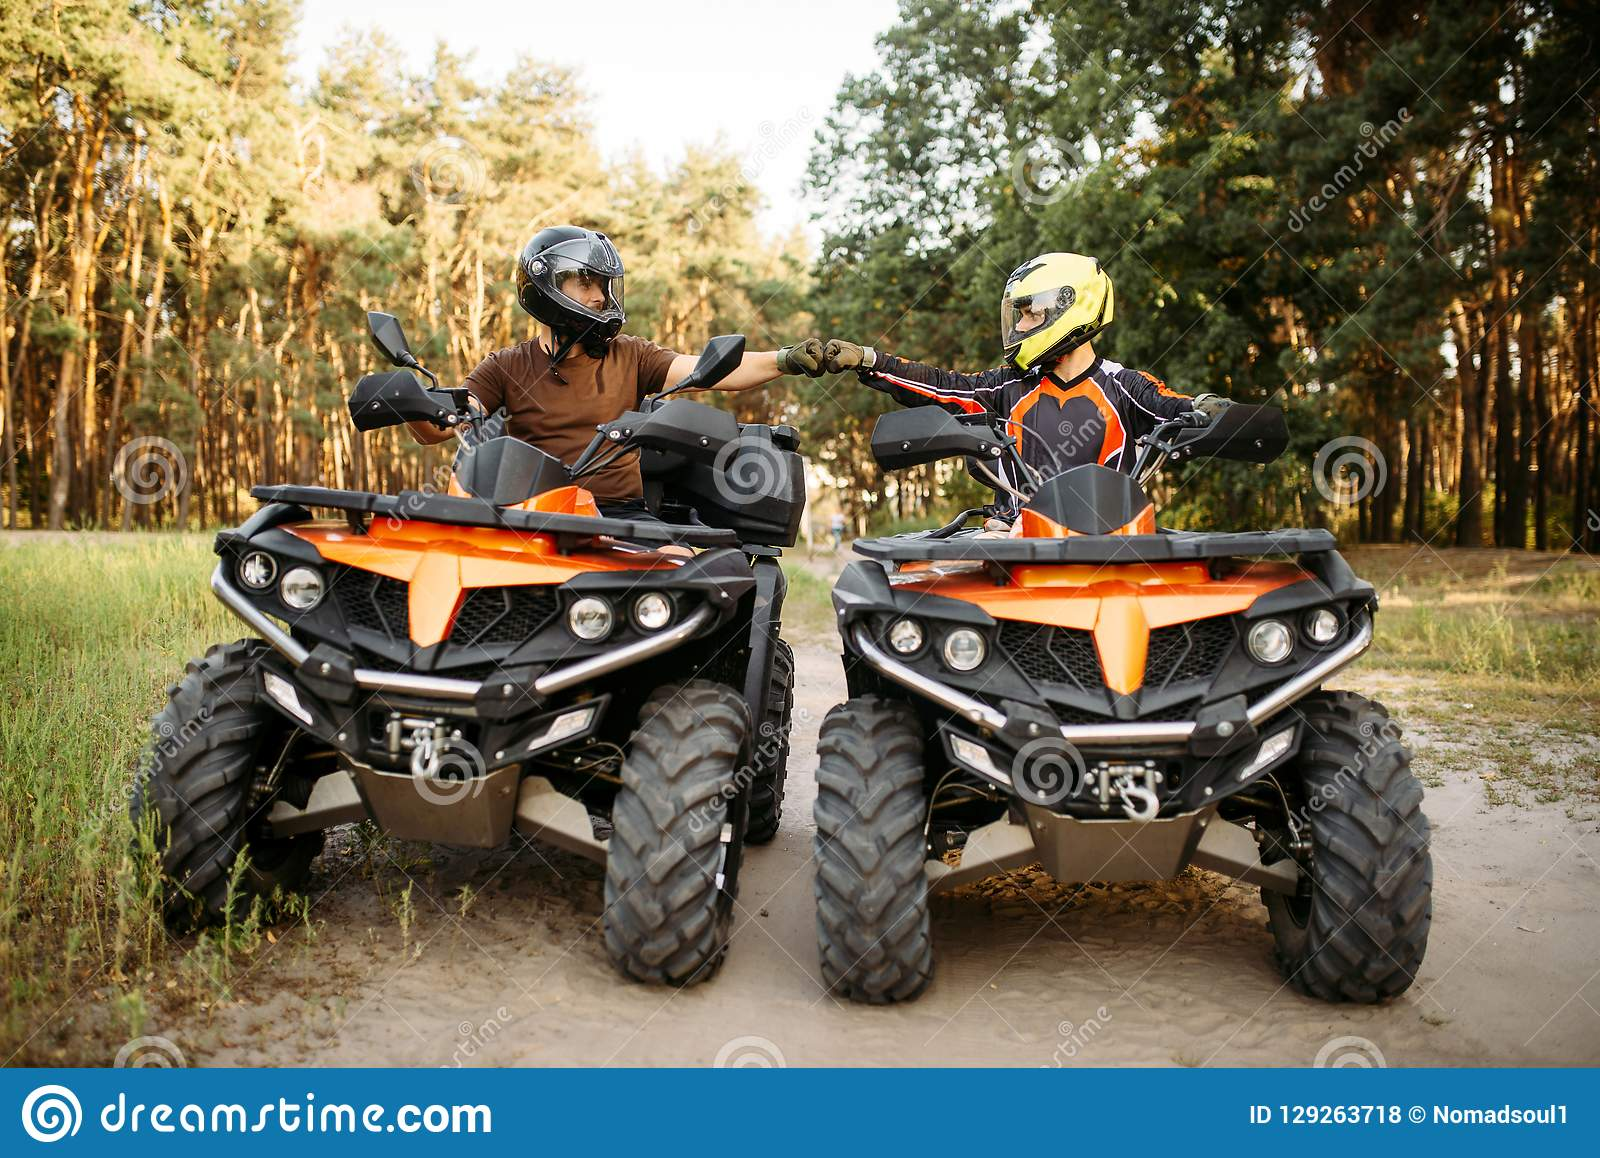helmet: (519, 229, 622, 360), (1006, 253, 1120, 358)
